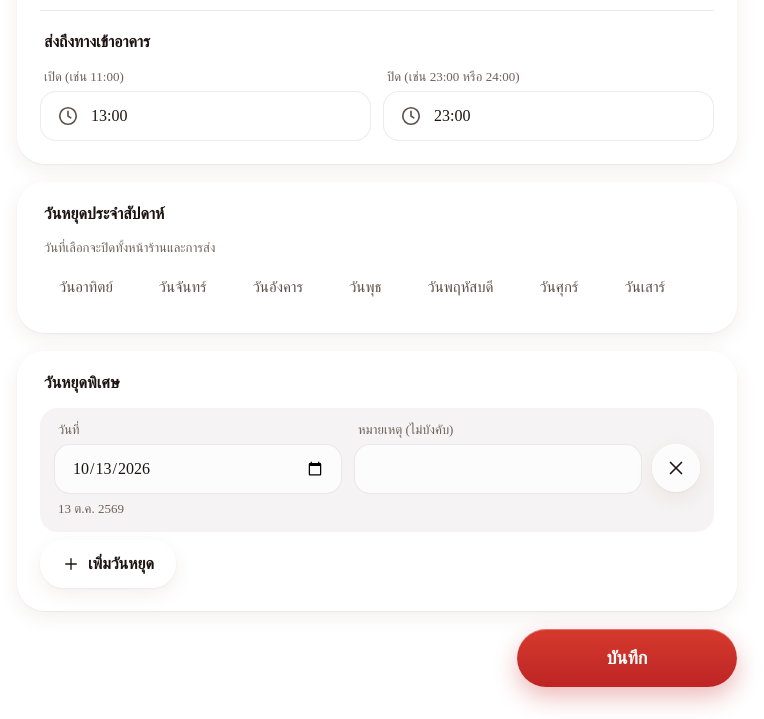
Test: opening hours › a closed date can be removed again
(page scrolled)
Expected: the date field labelled "วันที่" holds "2026-10-13", [71,459,325,479]
Click the button named "ลบวันหยุด 2026-10-13" at (676, 468), box [652,444,700,492]
(page scrolled)
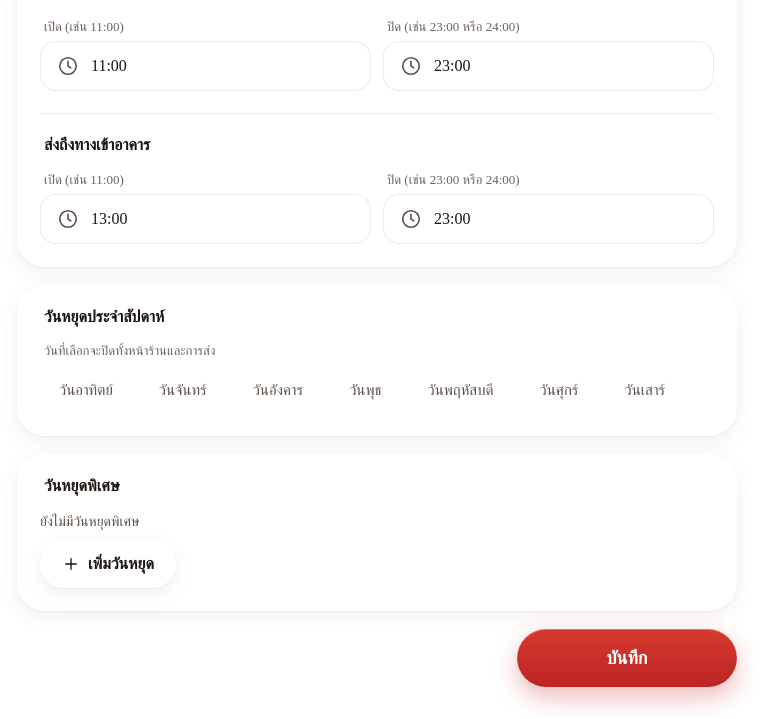
Now the text "ยังไม่มีวันหยุดพิเศษ" is shown, box [40,514,140,529]
